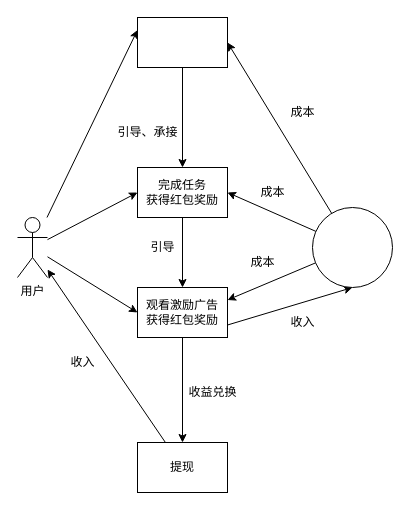
This 410x510 diagram has some shape labels left out. Here are the shapes that lost their labels. From the top down, the centre of each, then its label:
point (182, 42): 裂变拉新 （现金奖励）
point (352, 247): 公司
